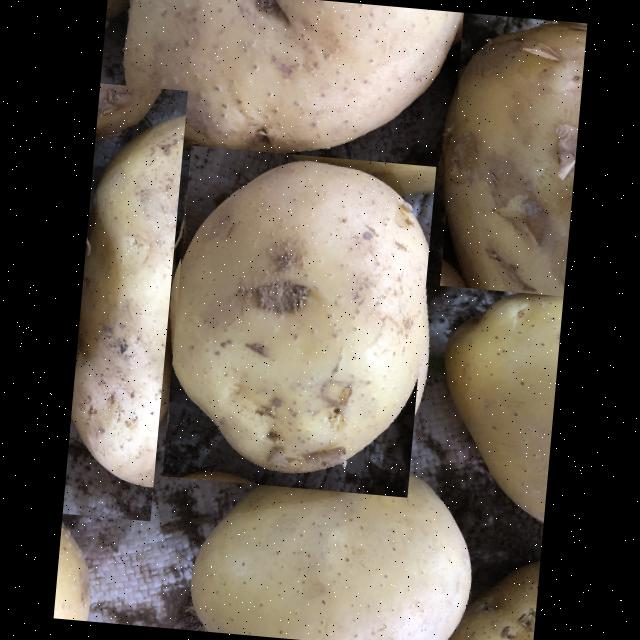Potato: (162, 144, 436, 496), (168, 458, 479, 640), (62, 82, 188, 520), (440, 11, 587, 295)
